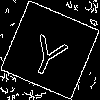Y: (25, 25, 74, 81)
